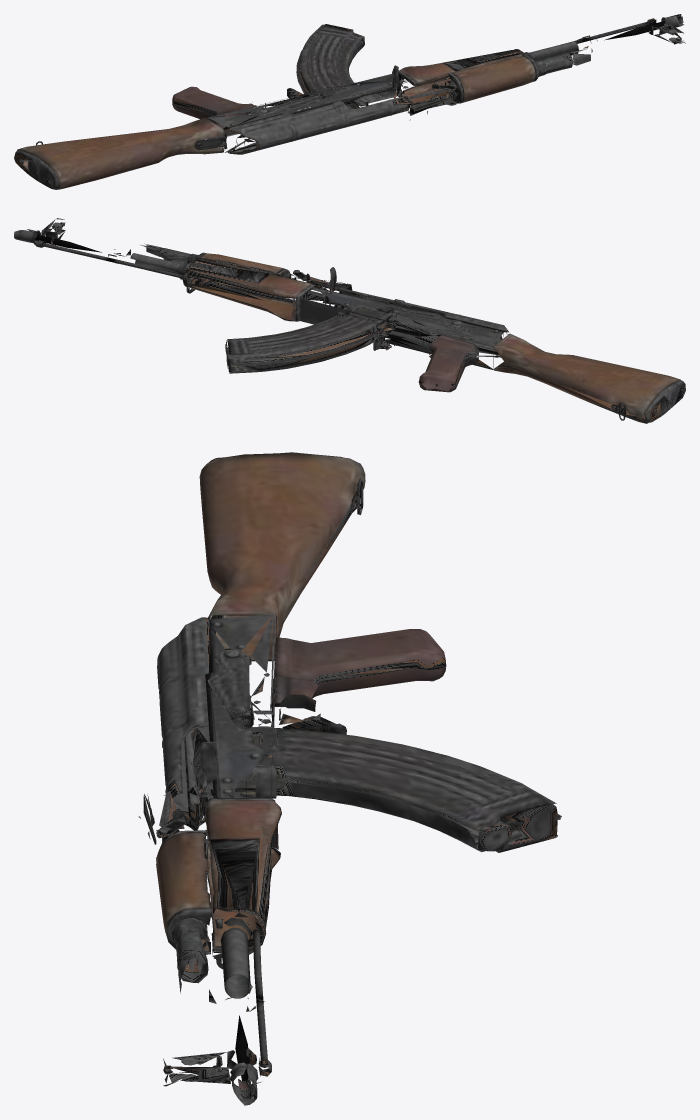
The picture shows the model from 3 angles, top to bottom: view 1: azimuth 30°, elevation 25°; view 2: azimuth 150°, elevation 25°; view 3: azimuth 270°, elevation 25°; orthographic projection. The views are drawn at different scales.
Visible parts, largest first — view 1: w_ak47; view 2: w_ak47; view 3: w_ak47.
Boxes of the visible parts, box(x1,y1,x2,y2) form: w_ak47: box(14, 14, 685, 189); w_ak47: box(14, 218, 685, 423); w_ak47: box(138, 452, 561, 1105).
Size of the model in its own units: 1.35 by 0.1014 by 0.386.
1 material, 1 textured.
